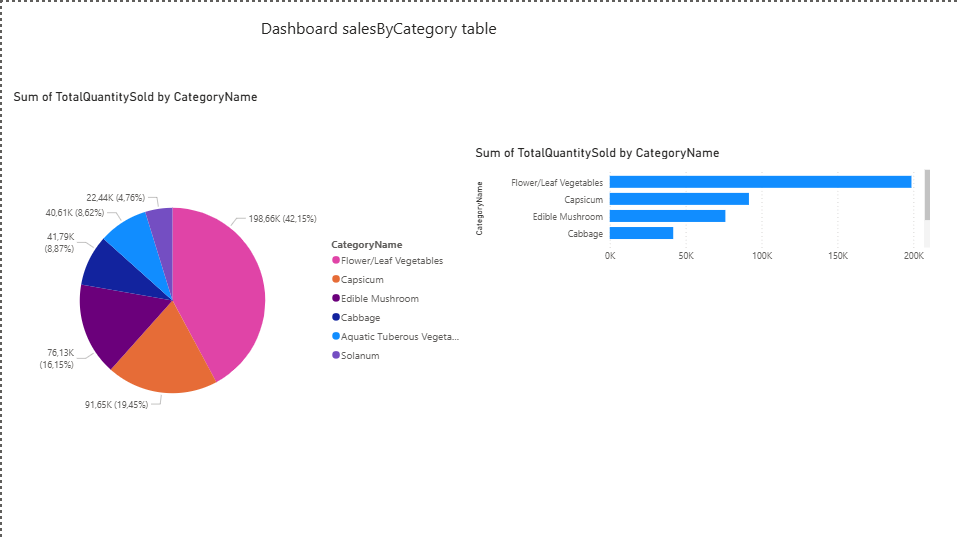

Layout of this report page (visuals, bound fields, positions):
{"tool":"powerbi","page":{"name":"Dashboard2","canvas":[1280,720],"ordinal":1},"visuals":[{"type":"pieChart","fields":{"Category":["sales_by_category.CategoryName"],"Y":["Sum(sales_by_category.TotalQuantitySold)"]},"box":[10,116,616,544],"z":0},{"type":"barChart","fields":{"Category":["sales_by_category.CategoryName"],"Y":["Sum(sales_by_category.TotalQuantitySold)"]},"box":[626,190,616,166],"z":1},{"type":"textbox","box":[340,14,446,76],"z":2}]}

Visuals, with their boxes in screenshot pixels (x1, y1, x2, y2), scaled from the page's 1280x720 canvas onto the 961x537 screenshot:
pieChart - sales_by_category.CategoryName x Sum(sales_by_category.TotalQuantitySold): left=8, top=87, right=470, bottom=492
barChart - sales_by_category.CategoryName x Sum(sales_by_category.TotalQuantitySold): left=470, top=142, right=932, bottom=266
textbox: left=255, top=10, right=590, bottom=67
